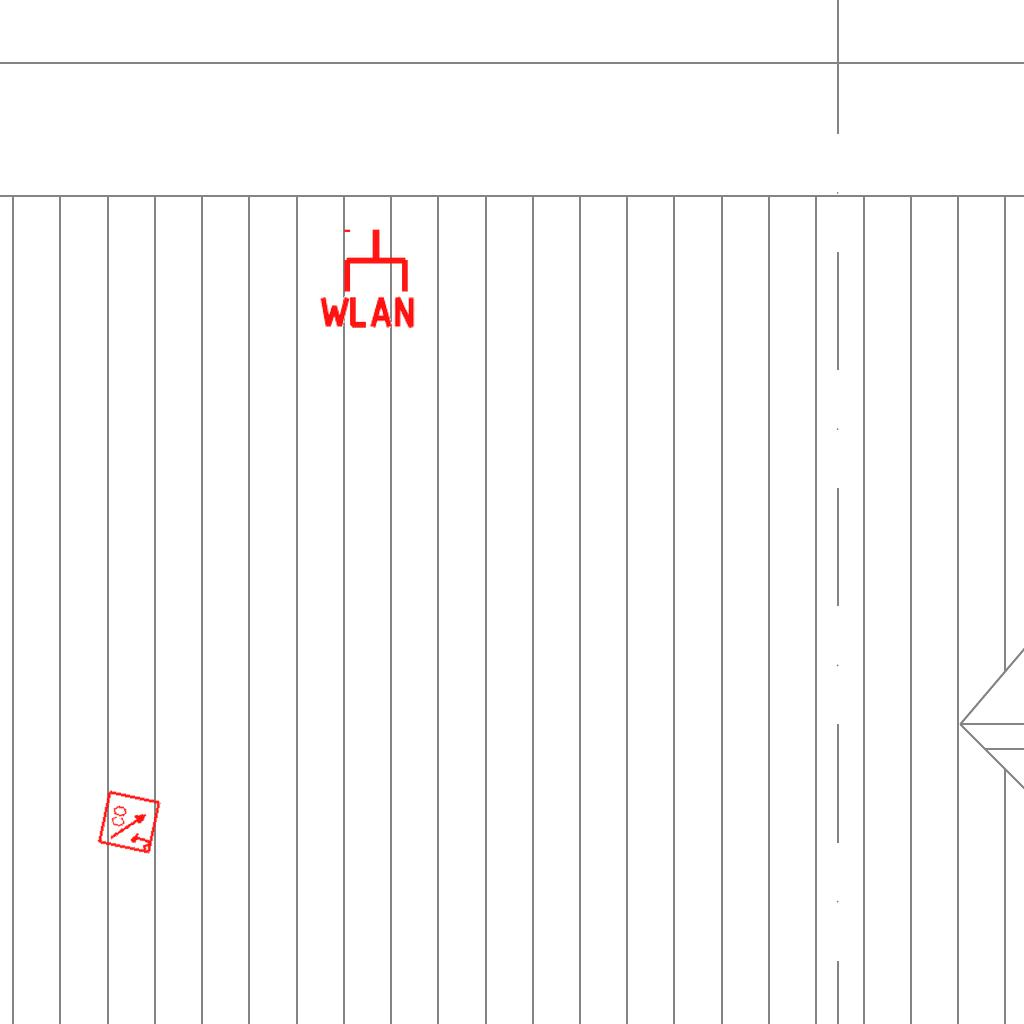ROA_Rauchmelder_optisch_mit_Signalgeber_(Sockelsirene): (96, 788, 164, 856)
WLAN: (315, 225, 419, 330)
